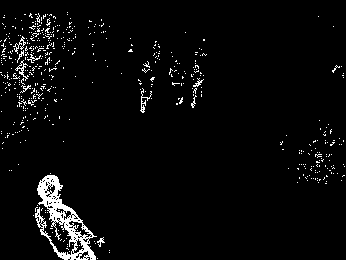person: (28, 172, 108, 260), (190, 61, 215, 109), (136, 59, 157, 113), (168, 59, 186, 109)
